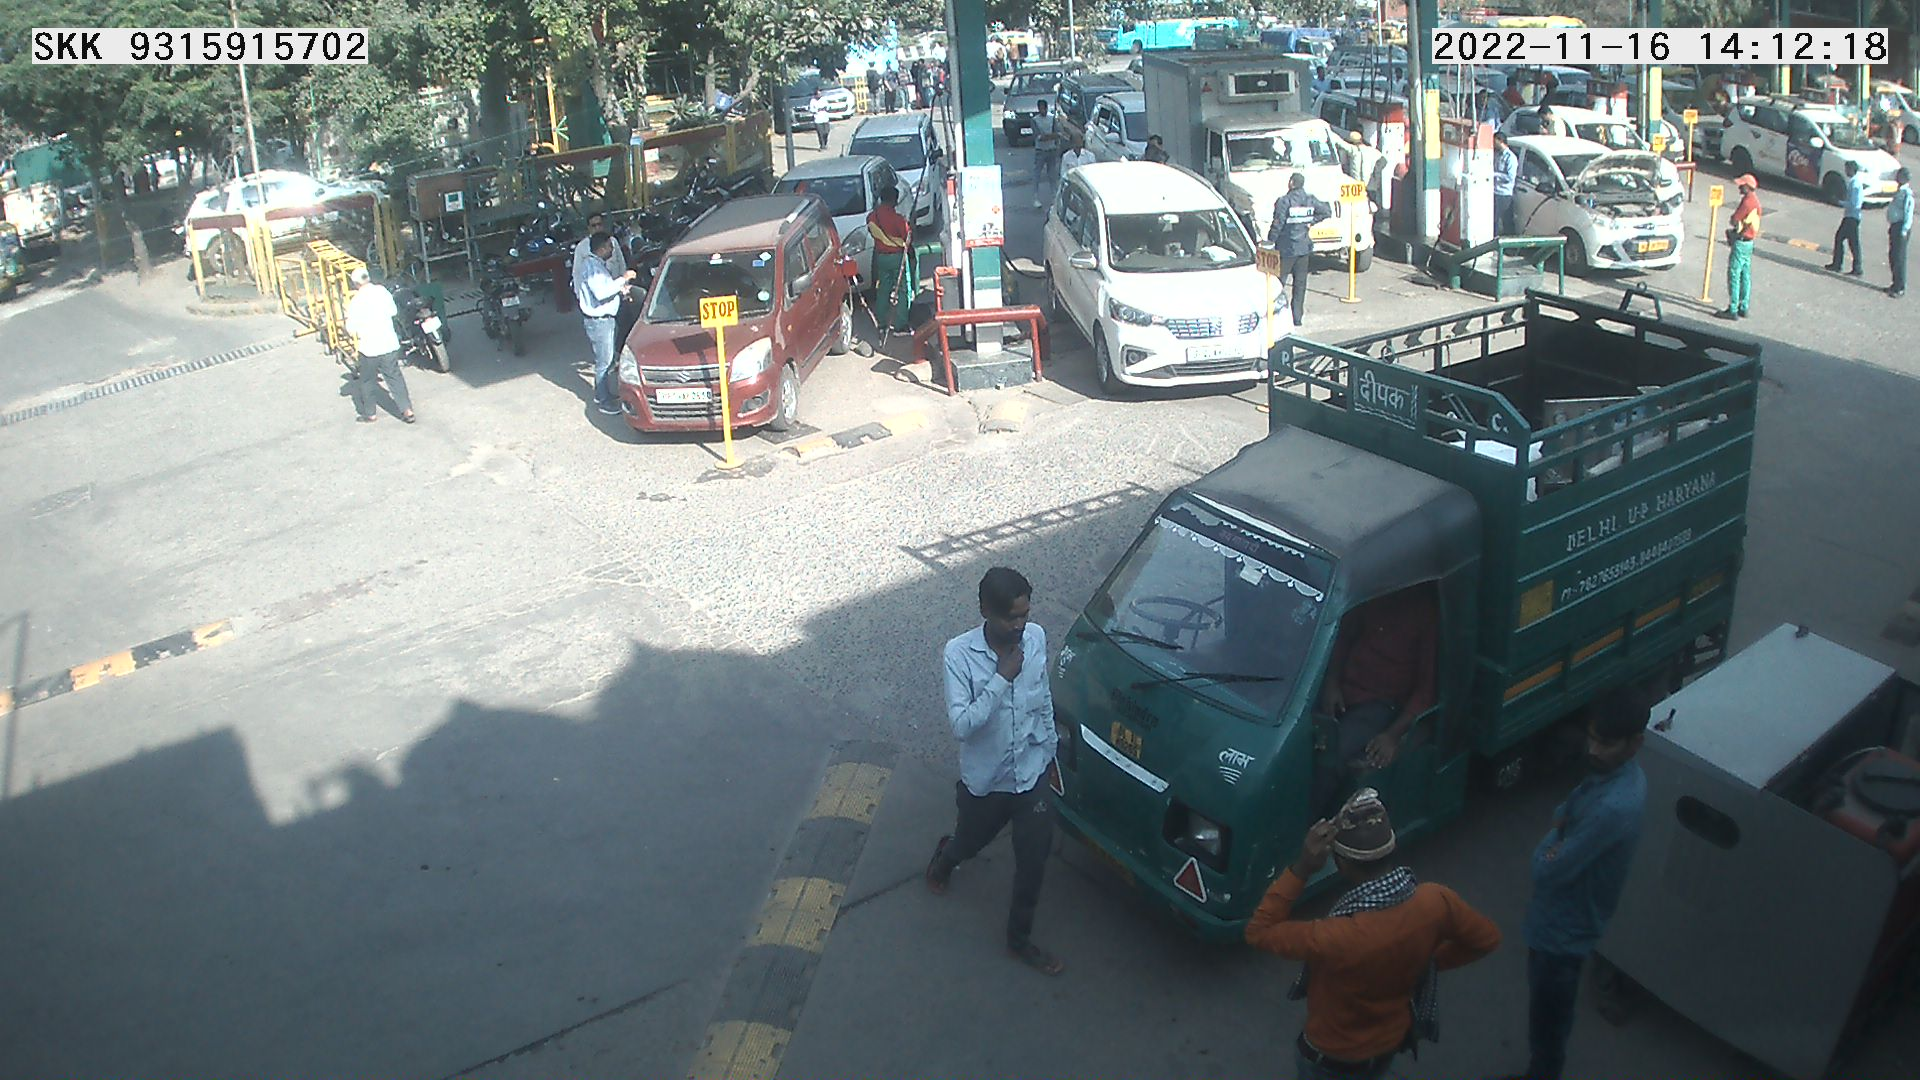Auto: (1013, 274, 1783, 977), (1838, 57, 1913, 149), (0, 204, 44, 309), (1785, 66, 1874, 109)
Bike: (371, 233, 468, 378), (456, 215, 534, 375), (506, 203, 591, 311), (534, 179, 599, 272), (599, 194, 654, 266), (629, 179, 671, 274), (678, 156, 765, 194), (655, 185, 696, 224)
Car: (605, 171, 872, 452), (1034, 142, 1307, 407), (171, 146, 409, 287), (1487, 120, 1695, 281), (752, 146, 936, 323), (1701, 86, 1911, 214), (1495, 90, 1695, 224), (841, 102, 965, 240), (1556, 71, 1697, 177), (1031, 55, 1156, 158), (976, 45, 1092, 154), (1311, 76, 1418, 177), (1062, 80, 1168, 171), (761, 71, 844, 152), (802, 55, 865, 137), (1431, 69, 1501, 137), (1331, 26, 1416, 80), (1313, 57, 1394, 111), (1514, 57, 1600, 107), (1465, 61, 1530, 121), (1287, 47, 1337, 123), (857, 51, 913, 117), (907, 46, 949, 113)
HMV: (1134, 13, 1386, 281)
Others: (855, 173, 940, 367), (1712, 160, 1768, 330)
Others Other: (691, 284, 742, 480), (1244, 236, 1286, 394), (1333, 165, 1371, 311), (1668, 95, 1713, 194), (1697, 177, 1718, 307), (1648, 109, 1675, 179)
